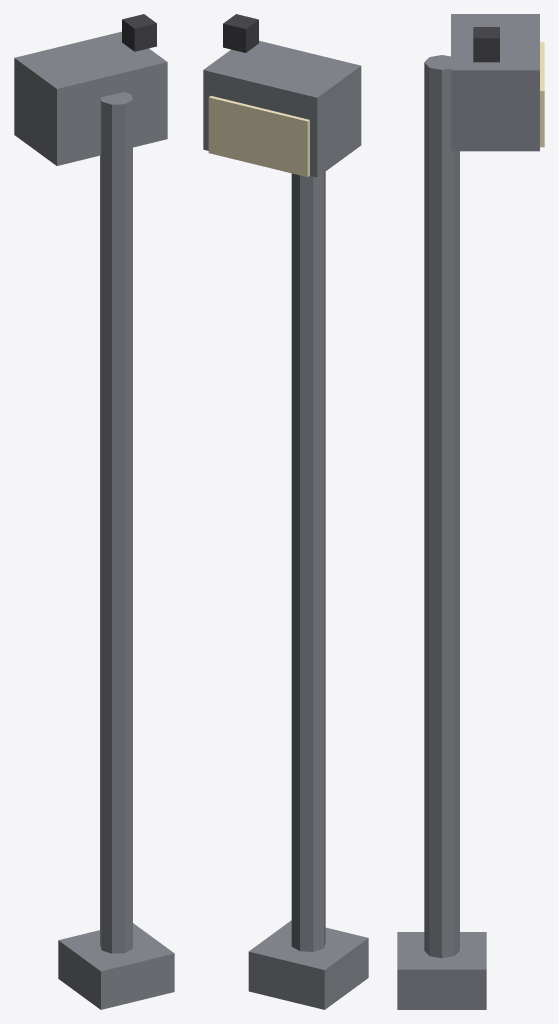
Rendered from security_light.glb.
3 views of the same model, side by side, from view 1: azimuth 30°, elevation 25°; view 2: azimuth 150°, elevation 25°; view 3: azimuth 270°, elevation 25° (orthographic). The views are drawn at different scales.
Visible parts, largest first — view 1: security_light; view 2: security_light; view 3: security_light.
Part boxes in pixels (x1,y1,x2,y2): security_light: [14, 14, 174, 1009]; security_light: [203, 14, 368, 1009]; security_light: [397, 14, 544, 1009].
Bounding box in the file's own units: 0.3 × 2.43 × 0.33.
